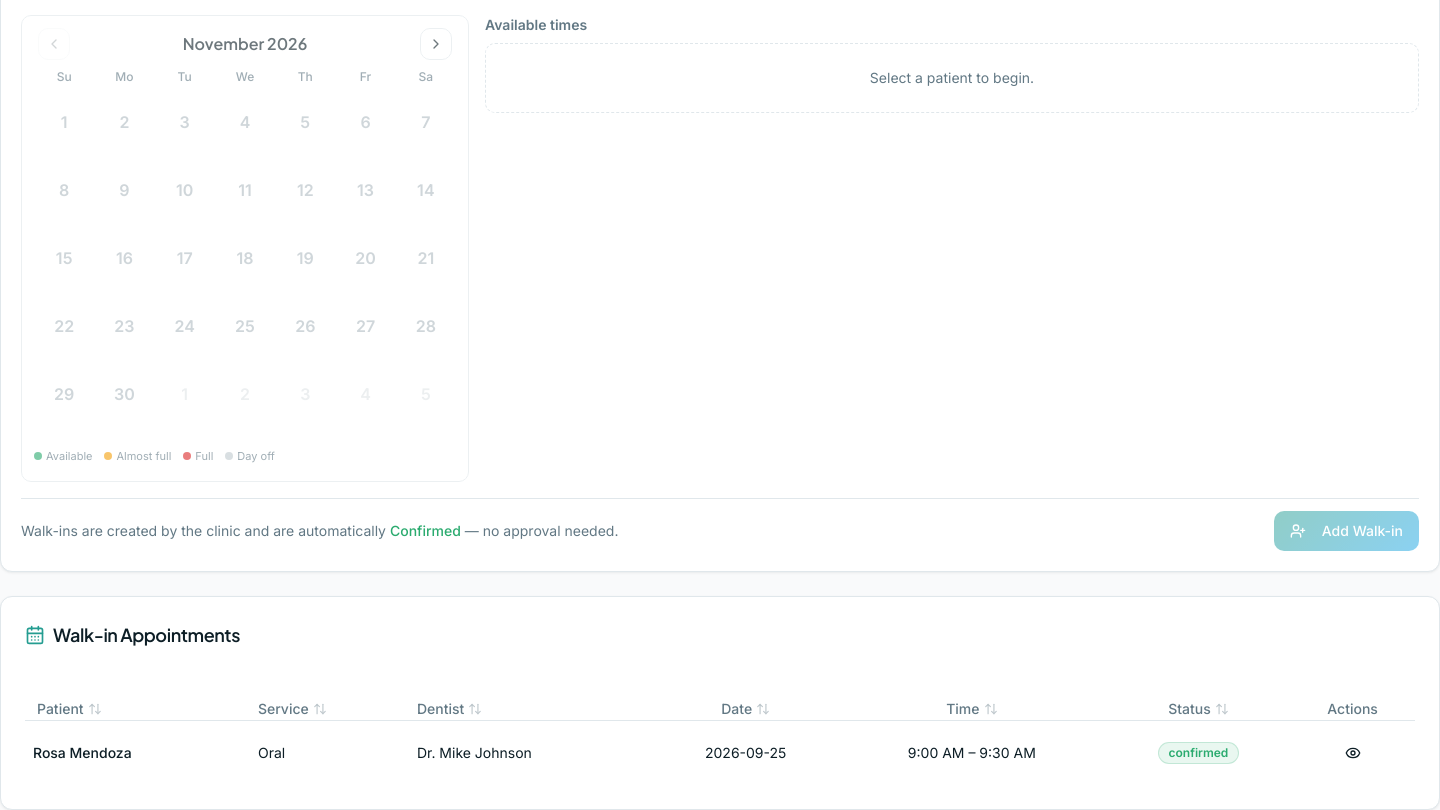
it: what the walk-in list lets you do › leaves the appointment alone if the confirmation is dismissed
The image size is (1440, 810).
(page scrolled)
Check: the text "Rosa Mendoza" is shown, box [25,720,250,785]
Click the button named "View details".
click(1352, 753)  # box [1336,737,1368,769]
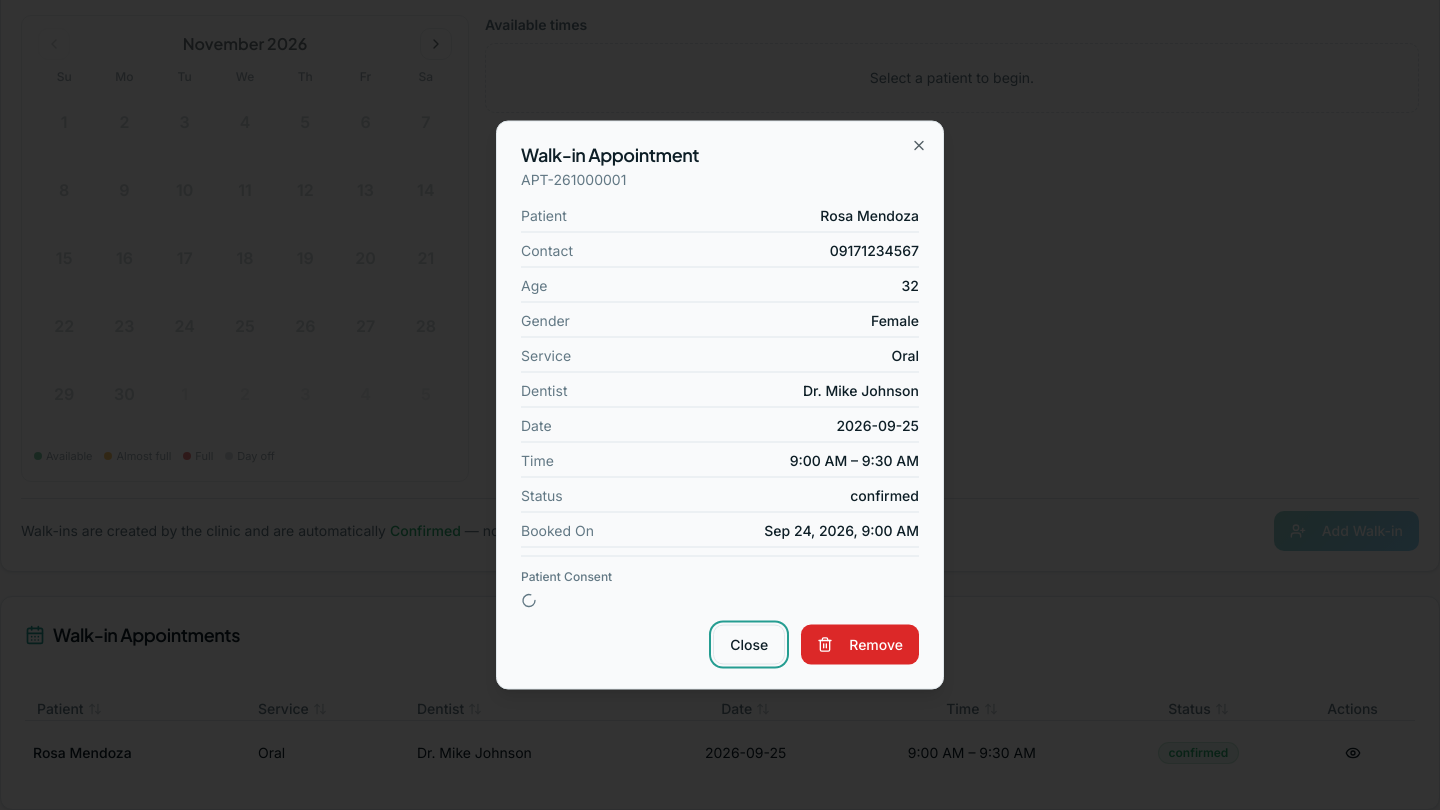
Check: the heading "Walk-in Appointment" is shown, box [521,142,699,166]
Click the button "Remove".
click(860, 644)  # box [801,624,919,664]
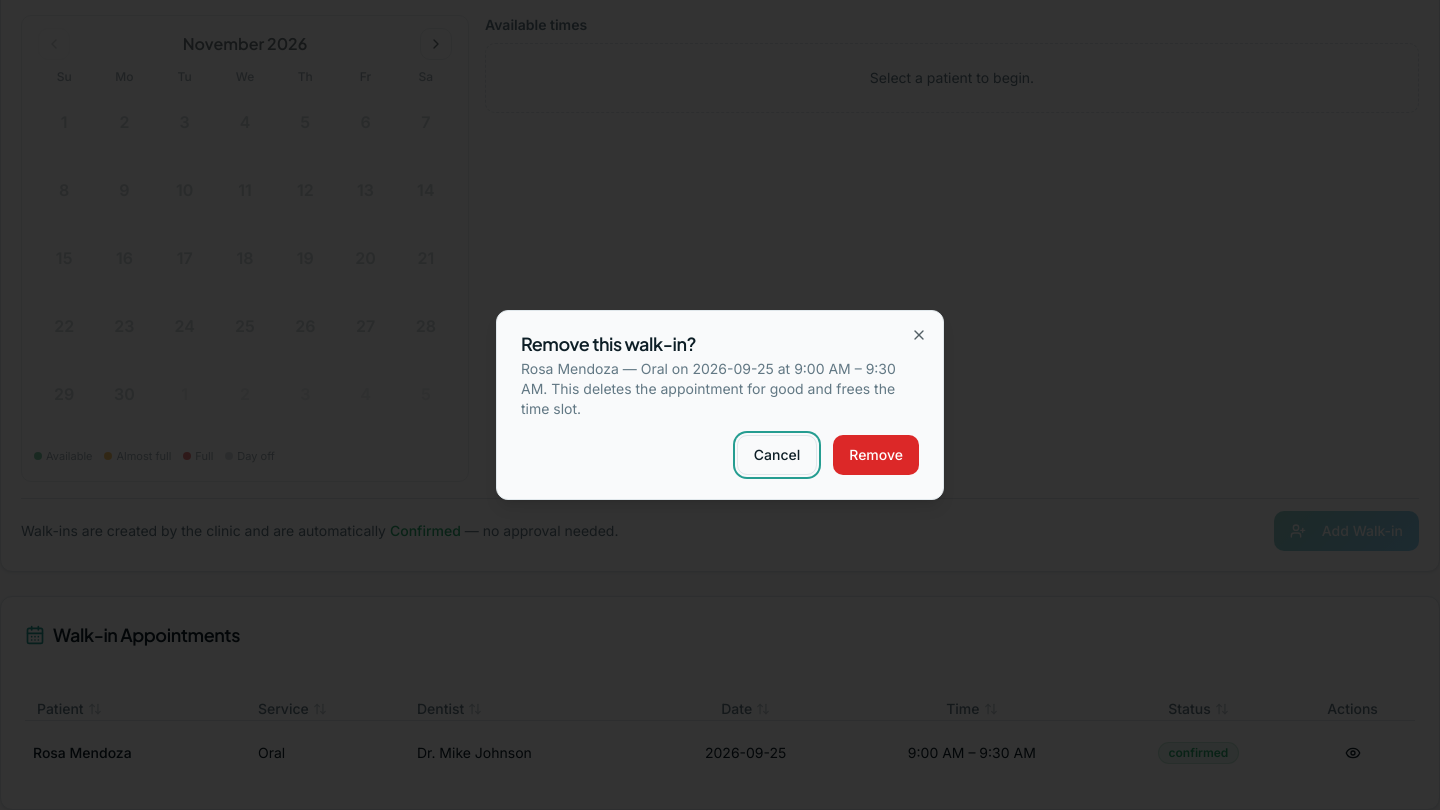
Check: the heading "Remove this walk-in?" is shown, box [521,332,696,355]
Click the button "Cancel".
click(777, 455)  # box [737,435,817,475]
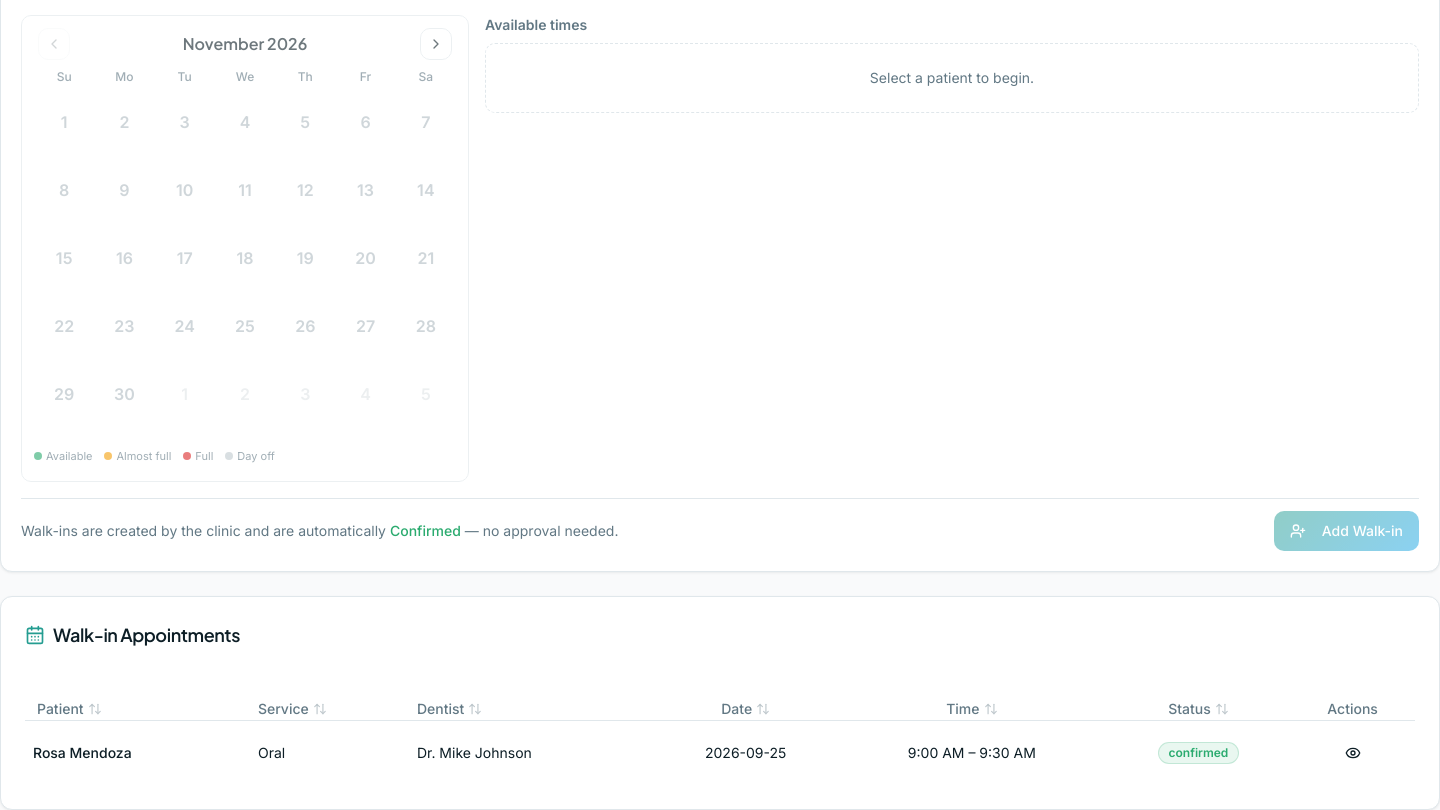
Check: the heading "Remove this walk-in?" is gone
